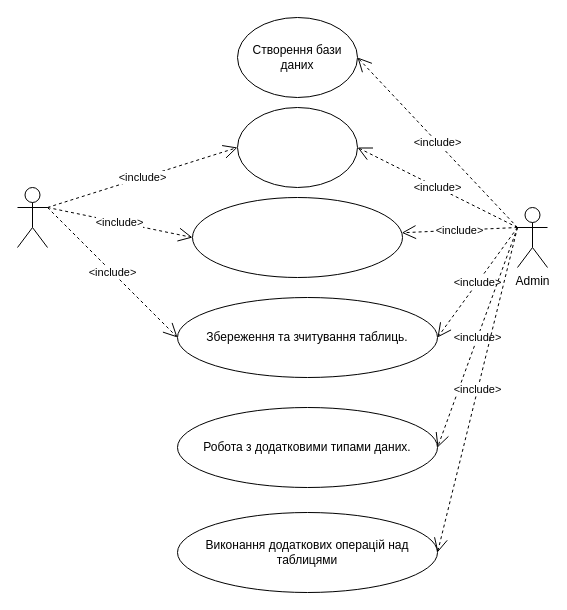
Image size: 567x610. Some labels were removed from this diagram. Each missing label, with the centre of its shape:
"User" goes at point (32, 217).
"Створення та знищення таблиць" goes at point (297, 147).
"Створення, валідація, перегляд та редагування записів" goes at point (297, 237).
